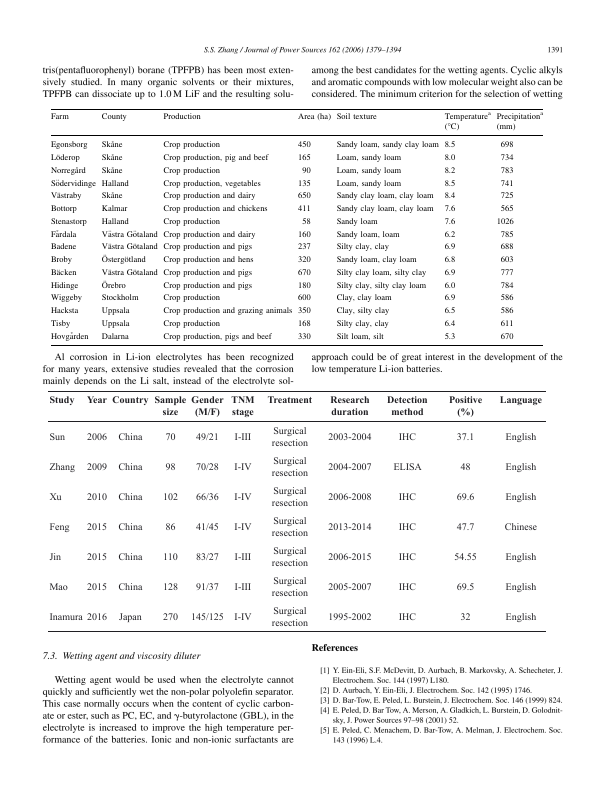borderless: (47, 390, 546, 631), (50, 107, 543, 345)
cell: (162, 306, 293, 316), (162, 332, 272, 342), (443, 110, 492, 132), (495, 110, 544, 132), (162, 153, 269, 163), (162, 204, 268, 214), (335, 141, 440, 151), (162, 179, 261, 189), (335, 192, 434, 202), (335, 204, 434, 214), (386, 396, 428, 419), (329, 396, 370, 419), (162, 192, 256, 202), (162, 230, 256, 240), (270, 456, 309, 480), (162, 255, 254, 265), (335, 268, 427, 278), (335, 281, 427, 291), (162, 243, 253, 253), (162, 268, 253, 278), (162, 281, 253, 291), (270, 427, 309, 450), (270, 486, 309, 509), (270, 516, 309, 539), (270, 546, 309, 569), (270, 576, 309, 599), (270, 606, 309, 629), (335, 255, 417, 265), (448, 396, 483, 419), (153, 396, 187, 419), (190, 396, 224, 419), (335, 153, 402, 163), (335, 166, 402, 176), (335, 179, 402, 189), (335, 230, 400, 240), (162, 141, 221, 151), (162, 166, 221, 176), (162, 217, 221, 227), (162, 294, 221, 304), (162, 319, 221, 329), (100, 230, 158, 240), (100, 243, 158, 253), (100, 268, 158, 278), (230, 396, 255, 419), (335, 294, 392, 304), (335, 306, 390, 316), (335, 243, 389, 253), (335, 319, 389, 329), (327, 462, 372, 474), (266, 396, 313, 407), (100, 254, 146, 265), (498, 396, 543, 407), (327, 433, 372, 444), (327, 492, 372, 503), (327, 522, 372, 533), (327, 552, 372, 563), (327, 582, 372, 593), (327, 612, 372, 623), (335, 332, 384, 342), (50, 179, 97, 189), (335, 217, 378, 227), (335, 112, 377, 122), (111, 396, 149, 407), (504, 462, 537, 474), (162, 112, 201, 122), (100, 294, 139, 304), (50, 332, 89, 342), (503, 522, 538, 533), (48, 612, 83, 623), (50, 141, 88, 151), (190, 612, 224, 623), (50, 217, 87, 227), (504, 433, 537, 444), (504, 492, 537, 503), (504, 552, 537, 563), (504, 582, 537, 593), (504, 612, 537, 623), (50, 166, 86, 176), (392, 462, 422, 474), (297, 112, 332, 122), (48, 462, 76, 474), (50, 294, 83, 304), (50, 192, 82, 202), (100, 279, 126, 291), (117, 462, 143, 474), (50, 153, 80, 163), (100, 306, 130, 316), (100, 319, 130, 329), (48, 396, 75, 407), (100, 179, 129, 189), (100, 217, 129, 227), (50, 281, 79, 291), (50, 306, 79, 316), (100, 332, 129, 342), (195, 462, 219, 474), (117, 433, 143, 444), (117, 492, 143, 503), (117, 522, 143, 533), (117, 552, 143, 563), (117, 582, 143, 593), (100, 204, 128, 214), (100, 112, 127, 122), (50, 204, 77, 214), (50, 230, 77, 240), (50, 243, 77, 253), (50, 268, 77, 278), (195, 433, 219, 444), (86, 462, 108, 474), (195, 492, 219, 503), (195, 522, 219, 533), (195, 552, 219, 563), (453, 552, 477, 563), (195, 582, 219, 593), (118, 612, 142, 623), (100, 140, 123, 151), (100, 191, 123, 202), (86, 396, 108, 407), (85, 433, 107, 444), (85, 492, 107, 503), (48, 522, 70, 533), (86, 522, 108, 533), (86, 552, 108, 563), (86, 582, 108, 593), (86, 612, 108, 623), (100, 153, 123, 163), (100, 166, 123, 176), (50, 255, 73, 265), (233, 462, 252, 474), (397, 433, 417, 444), (455, 433, 475, 444), (397, 492, 417, 503), (455, 492, 475, 503), (397, 522, 417, 533), (455, 522, 475, 533), (397, 552, 417, 563), (48, 582, 68, 593), (397, 582, 417, 593), (455, 582, 475, 593), (397, 612, 417, 623), (50, 319, 71, 329), (233, 433, 252, 444), (233, 492, 252, 503), (233, 522, 252, 533), (233, 552, 252, 563), (233, 582, 252, 593), (233, 612, 252, 623), (49, 112, 69, 122), (48, 433, 66, 444), (495, 217, 514, 227), (162, 492, 179, 503), (162, 582, 179, 593), (162, 612, 179, 623), (162, 552, 178, 563), (48, 492, 62, 503), (48, 552, 62, 563), (499, 141, 514, 151), (499, 153, 514, 163), (499, 166, 514, 176), (499, 179, 514, 189), (499, 192, 514, 202), (499, 204, 514, 214), (499, 230, 514, 240), (499, 243, 514, 253), (499, 255, 514, 265), (499, 268, 514, 278), (499, 281, 514, 291), (499, 294, 514, 304), (499, 306, 514, 316), (499, 319, 514, 329), (499, 332, 514, 342), (164, 462, 176, 474), (459, 462, 471, 474), (297, 141, 311, 151), (297, 153, 311, 163), (297, 179, 311, 189), (297, 192, 311, 202), (297, 204, 311, 214), (297, 230, 311, 240), (297, 243, 311, 253), (297, 255, 311, 265), (297, 268, 311, 278), (297, 281, 311, 291), (297, 294, 311, 304), (297, 306, 311, 316), (297, 319, 311, 329), (297, 332, 311, 342), (164, 433, 176, 444), (164, 522, 176, 533), (459, 612, 471, 623), (443, 141, 456, 151), (443, 153, 456, 163), (443, 166, 456, 176), (443, 179, 456, 189), (443, 192, 456, 202), (443, 204, 456, 214), (443, 217, 456, 227), (443, 230, 456, 240), (443, 243, 456, 253), (443, 255, 456, 265), (443, 268, 456, 278), (443, 281, 456, 291), (443, 294, 456, 304), (443, 306, 456, 316), (443, 319, 456, 329), (443, 332, 456, 342), (301, 166, 311, 176), (301, 217, 311, 227)
